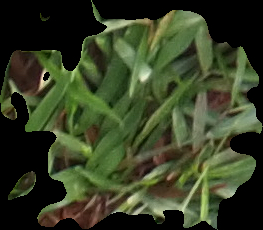grass: (1, 1, 261, 228)
